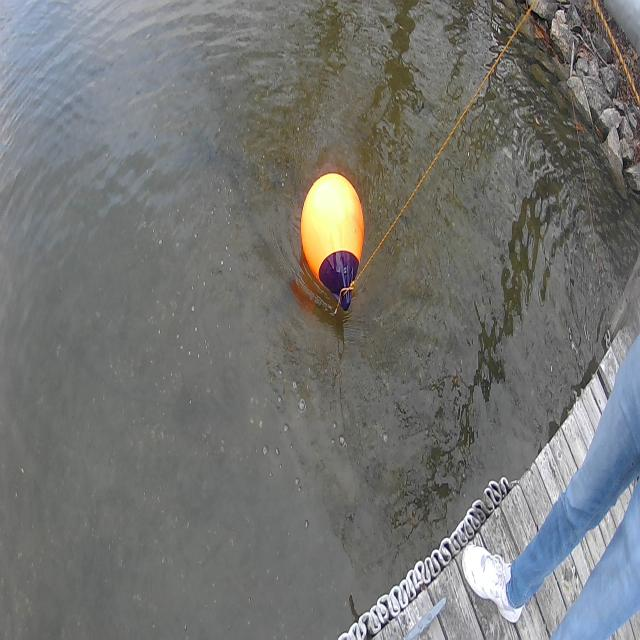Buoy: (300, 170, 369, 305)
